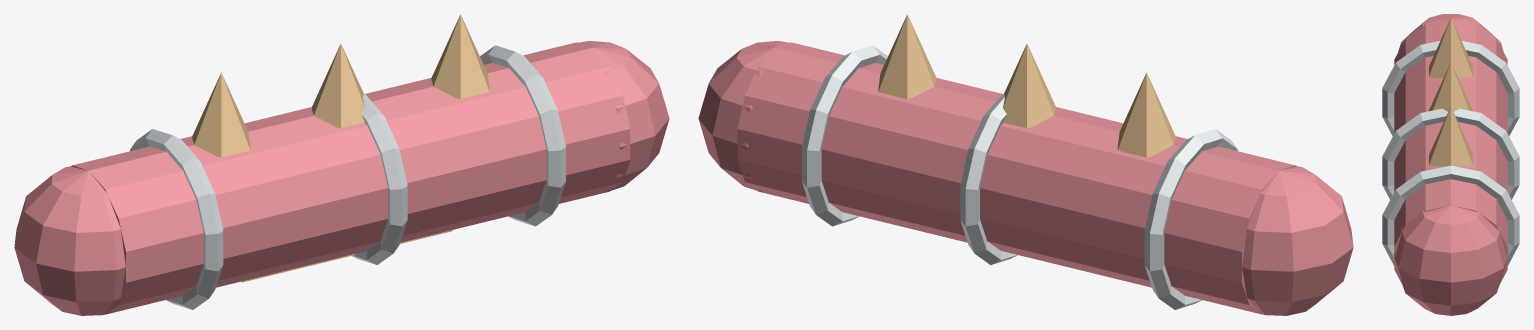
The model's file is tubo_comida_picante.glb.
3 renders of one model, left to right at view 1: azimuth 30°, elevation 25°; view 2: azimuth 150°, elevation 25°; view 3: azimuth 270°, elevation 25°, orthographic. The views are drawn at different scales.
Visible parts, largest first — view 1: tubo_comida_picante; view 2: tubo_comida_picante; view 3: tubo_comida_picante.
Part boxes in pixels (x1,y1,x2,y2): tubo_comida_picante: (14,14,669,315); tubo_comida_picante: (698,14,1353,315); tubo_comida_picante: (1382,14,1519,315).
Size of the model in its own units: 1.96 by 0.649 by 0.4855.
